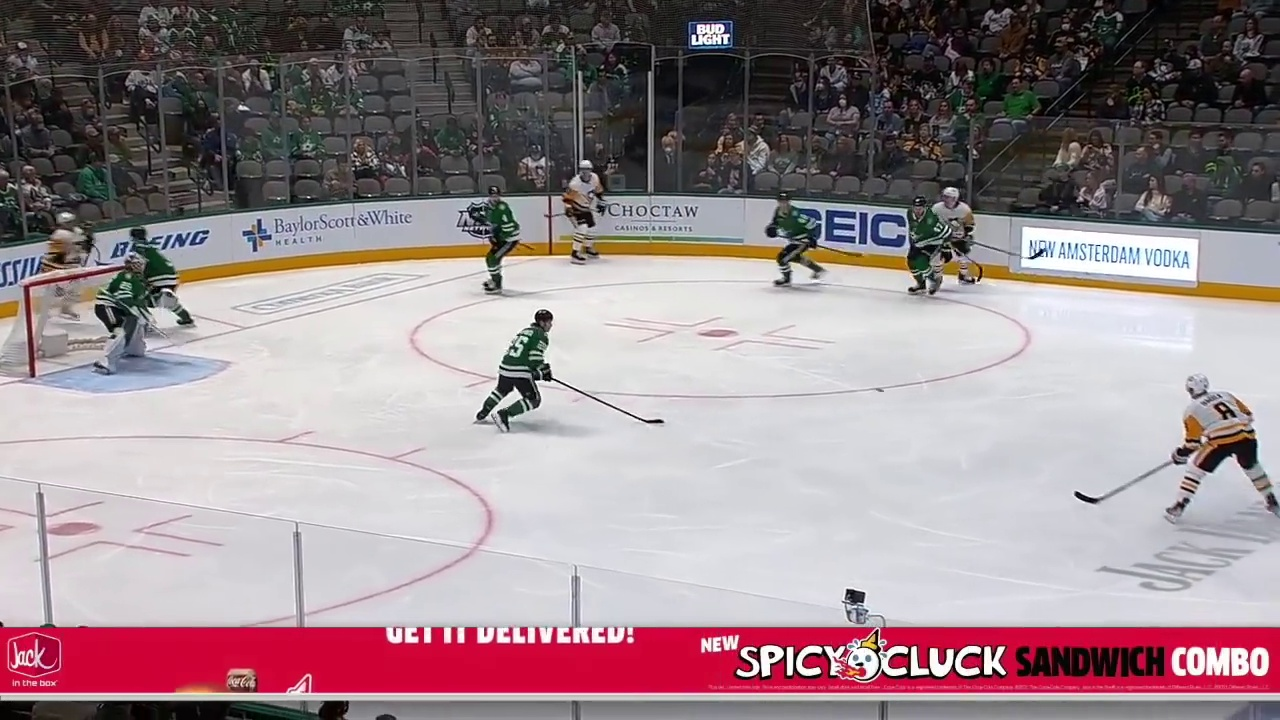goalie: (92, 252, 179, 374)
hockeyplayer: (1165, 373, 1280, 525), (474, 309, 553, 433), (765, 191, 828, 288), (41, 212, 95, 322), (469, 186, 520, 295), (906, 195, 952, 296), (562, 160, 606, 265), (931, 186, 975, 285)
